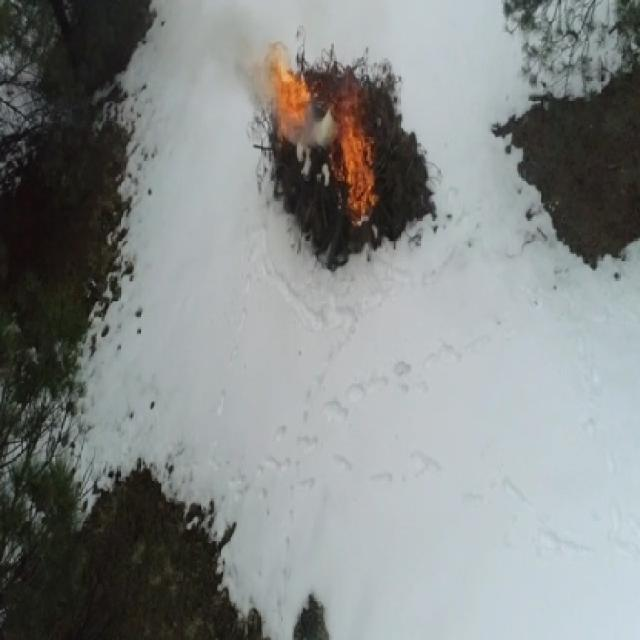Fire: (332, 83, 366, 183), (276, 56, 309, 141), (348, 139, 376, 220)
